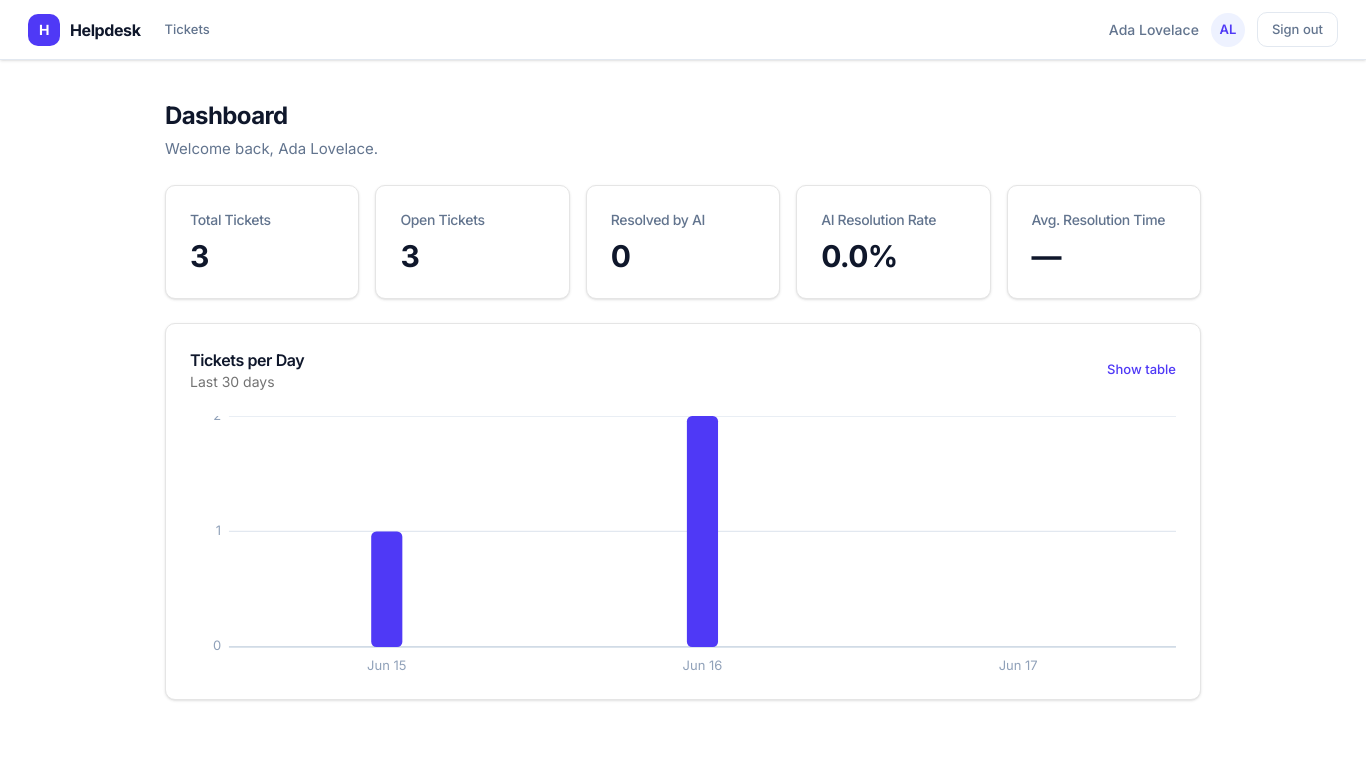
Scenario: HomePage › renders the tickets-per-day chart and can switch to a table view
Expected: the picture "Jun 16: 2 tickets" is shown, [545,416,860,646]
Click the button "Show table" at (1142, 370), box [1107,360,1176,379]
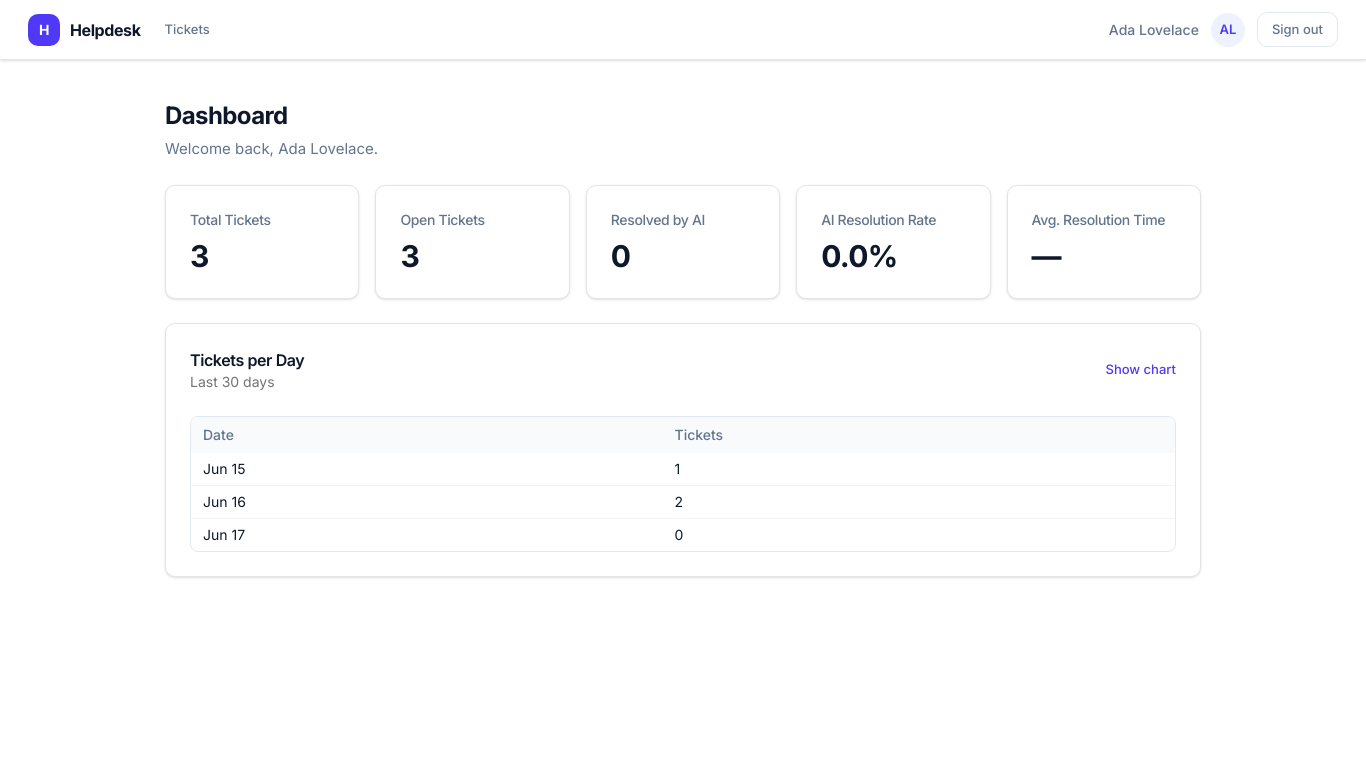
Expected: the cell "2" is shown, [662,485,1175,518]
Now the button "Show chart" is shown, box [1106,360,1176,379]
